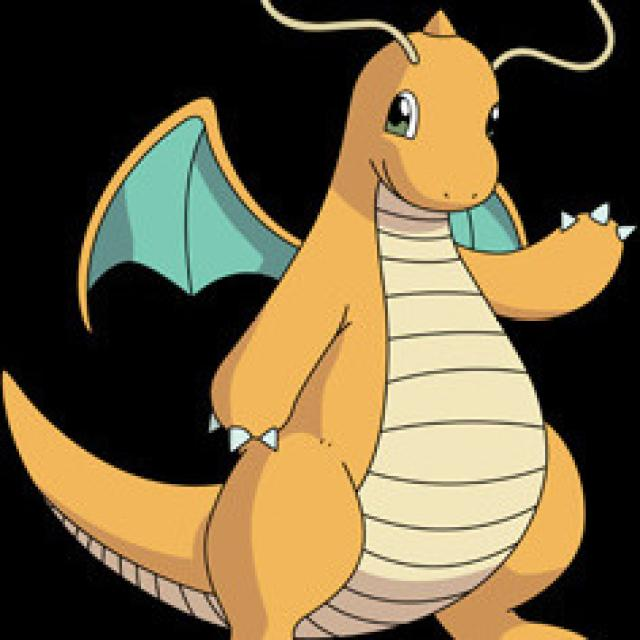Dragonite: (197, 13, 590, 640)
